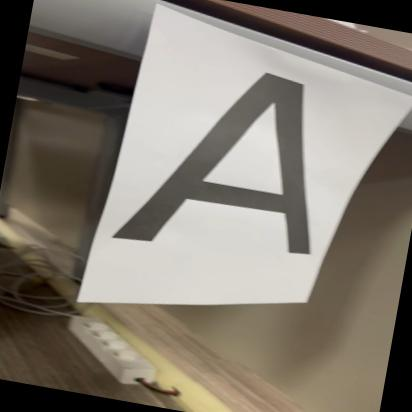seat: (114, 40, 350, 280)
